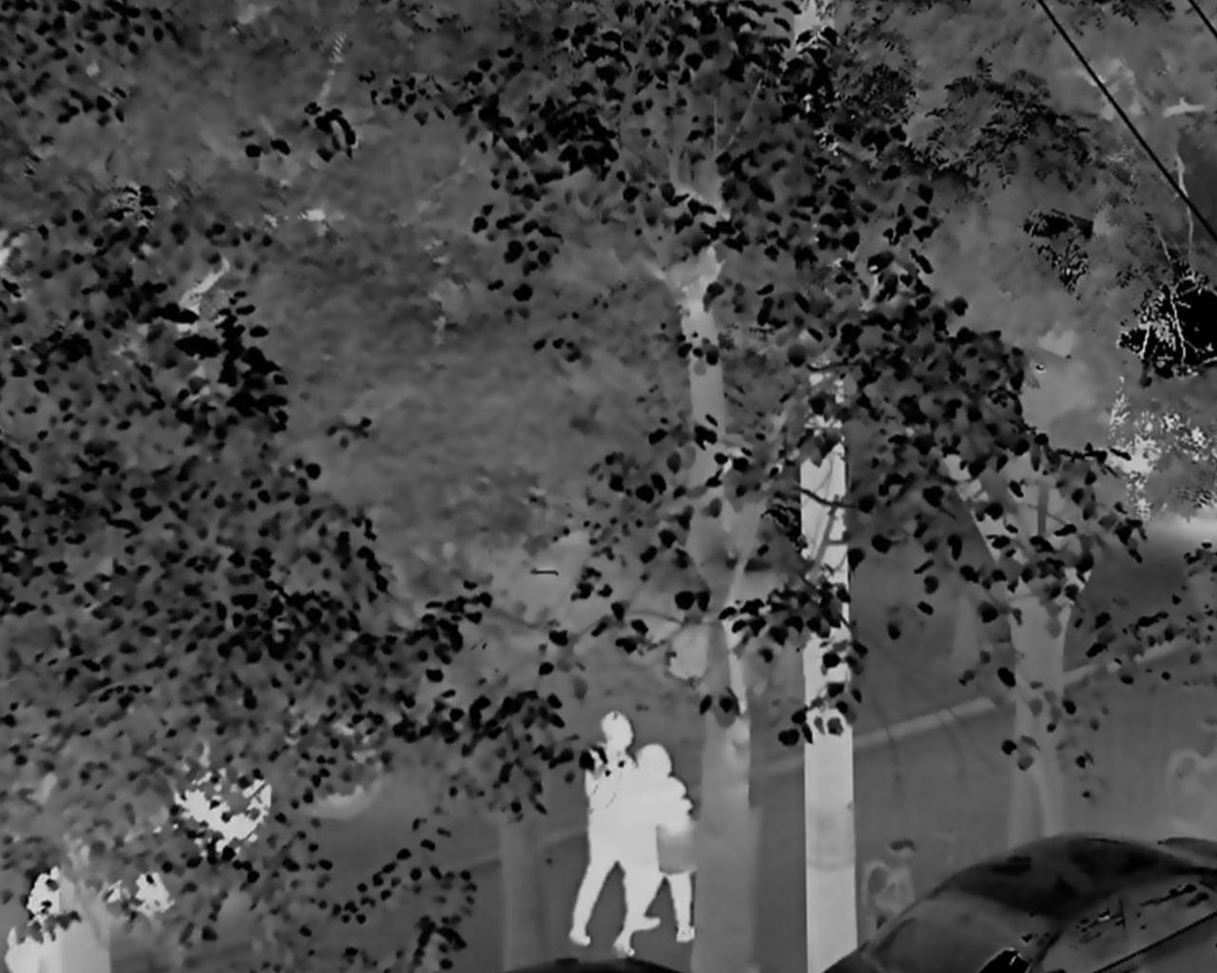person: (570, 705, 656, 953), (614, 745, 698, 961)
